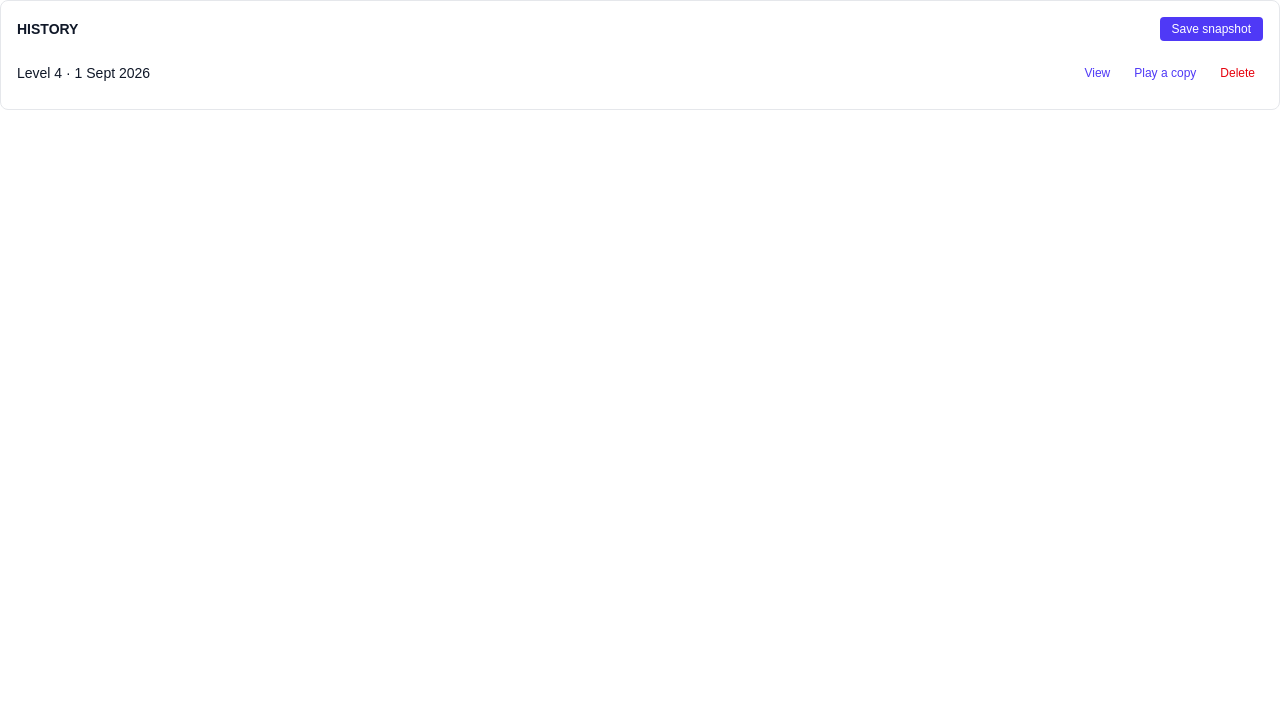
Test: CharacterHistorySection (VEG-644) › play a copy (VEG-646) › disables the button while a save is in flight
The width and height of the screenshot is (1280, 720).
Expected: the text "Level 4 · 1 Sept 2026" is shown, x1=17 y1=63 x2=150 y2=83
Expected: the button with aria-label "Play a copy of Level 4 · 1 Sept 2026" is enabled, x1=1126 y1=61 x2=1204 y2=85
Click the button "Save snapshot" at (1211, 29), box x1=1160 y1=17 x2=1263 y2=41
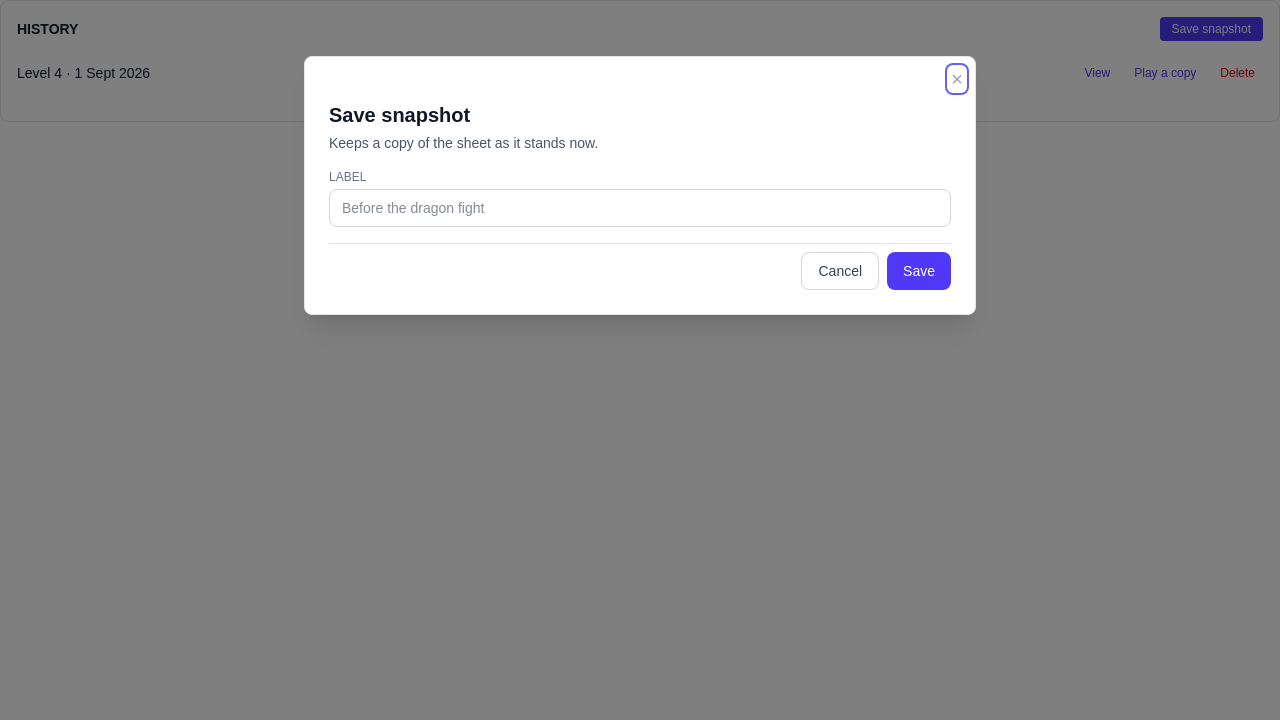
Click the button "Save" at (919, 271), box x1=887 y1=252 x2=951 y2=290
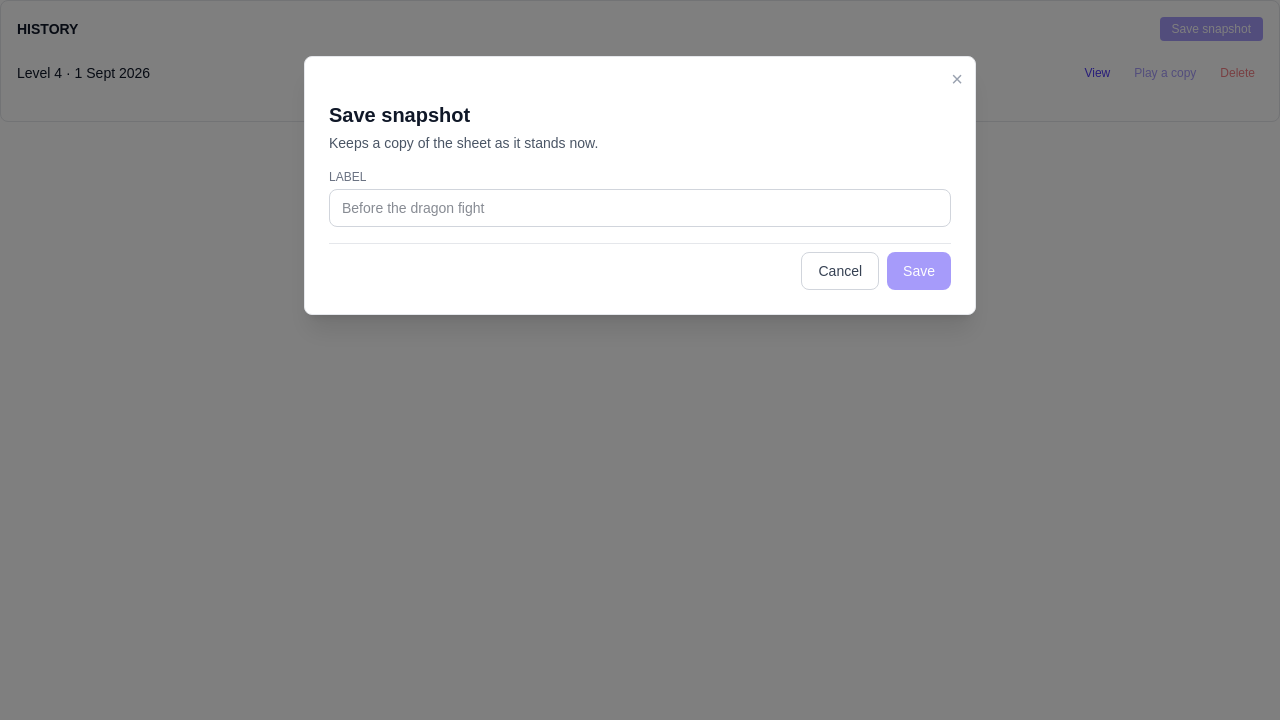
Expected: the button with aria-label "Play a copy of Level 4 · 1 Sept 2026" is disabled, x1=1126 y1=61 x2=1204 y2=85
